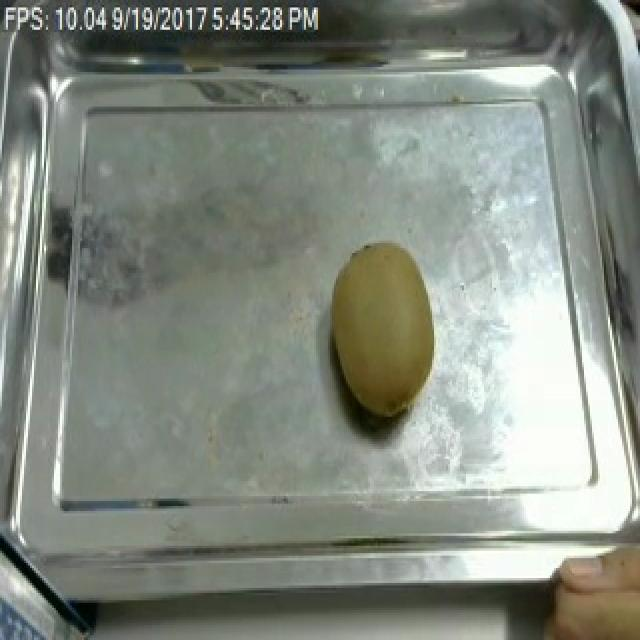Fruit: (320, 233, 444, 427)
